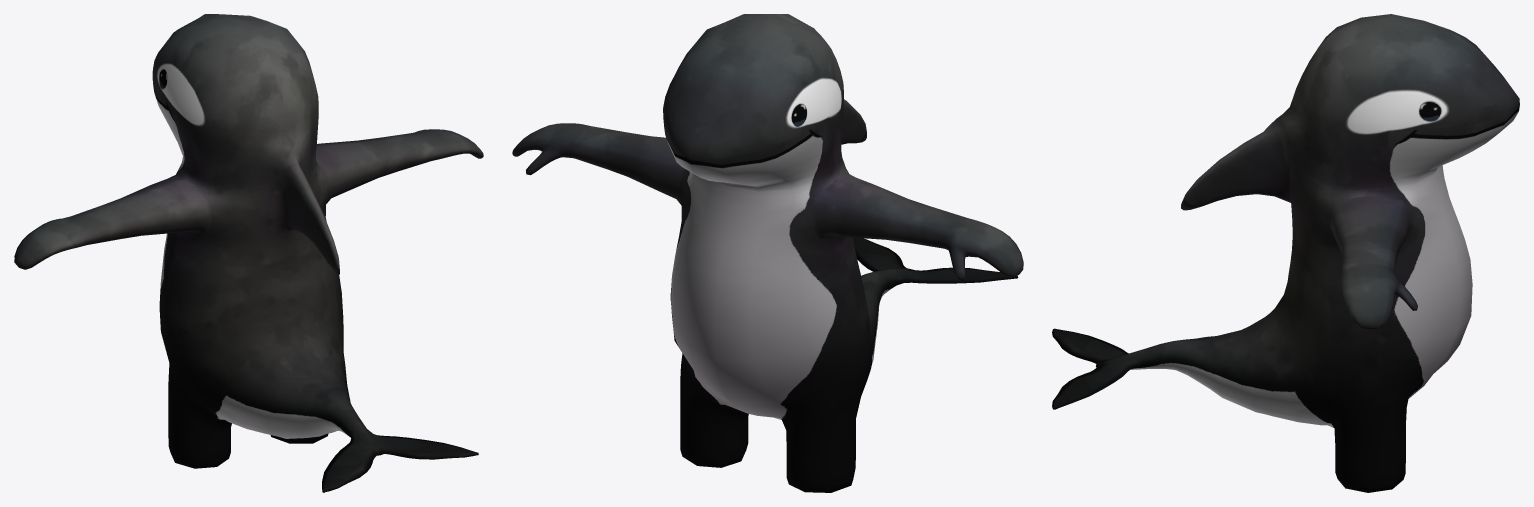
Rendered from OrcaScaled.fbx.
3 renders of one model, left to right at view 1: azimuth 30°, elevation 25°; view 2: azimuth 150°, elevation 25°; view 3: azimuth 270°, elevation 25°, orthographic. The views are drawn at different scales.
Parts seen in each view (by area): view 1: Orca; view 2: Orca; view 3: Orca.
Boxes of the visible parts, x1,y1,x2,y2 form: Orca: (14, 14, 483, 492); Orca: (512, 14, 1023, 492); Orca: (1052, 14, 1519, 492).
Size of the model in its own units: 354 by 305 by 297.
